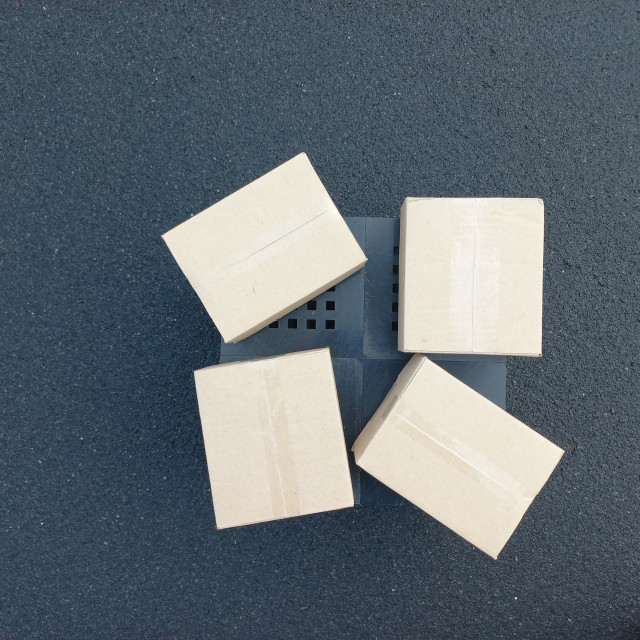box: (351, 351, 565, 563), (161, 147, 368, 348), (191, 345, 356, 533), (398, 194, 545, 359)
